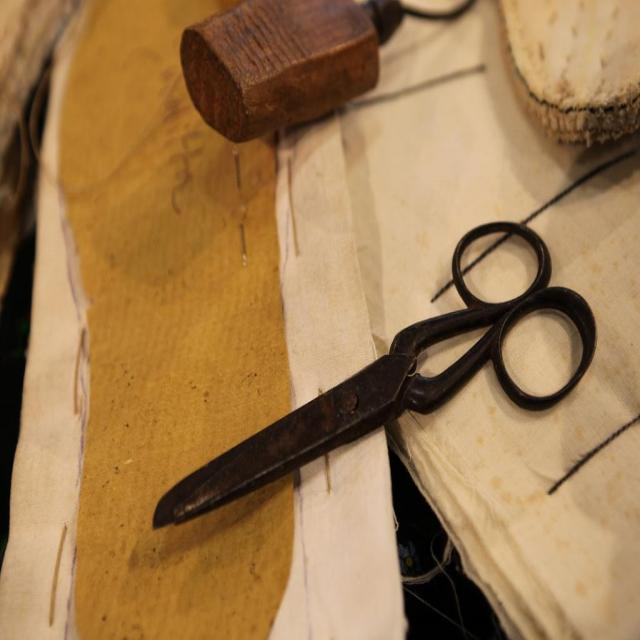scissor: (153, 220, 597, 529)
